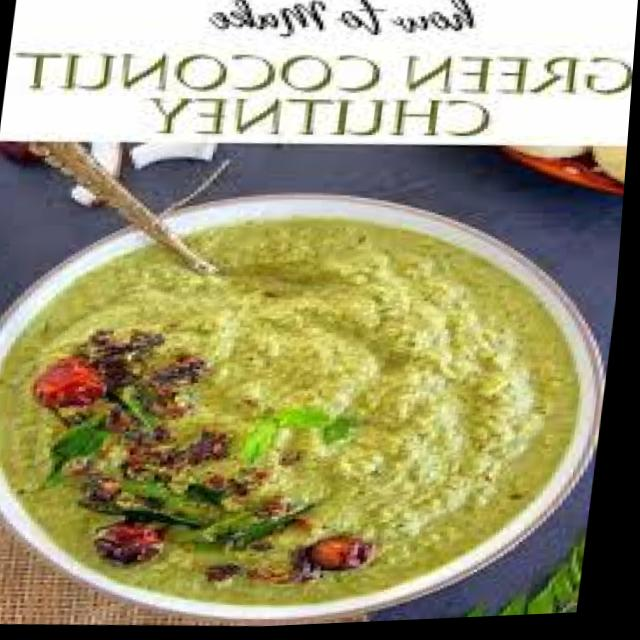GREEN CHUTNEY: (9, 215, 592, 624)
